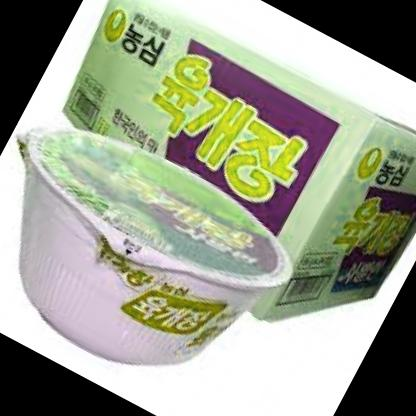Ramen: (0, 93, 317, 416)
